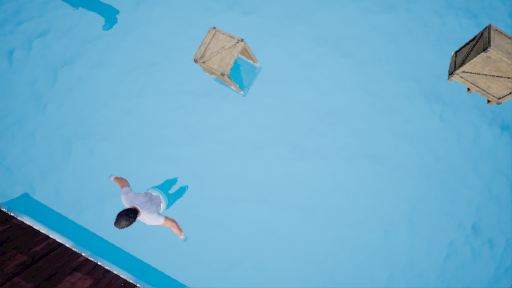person: (112, 168, 196, 249)
